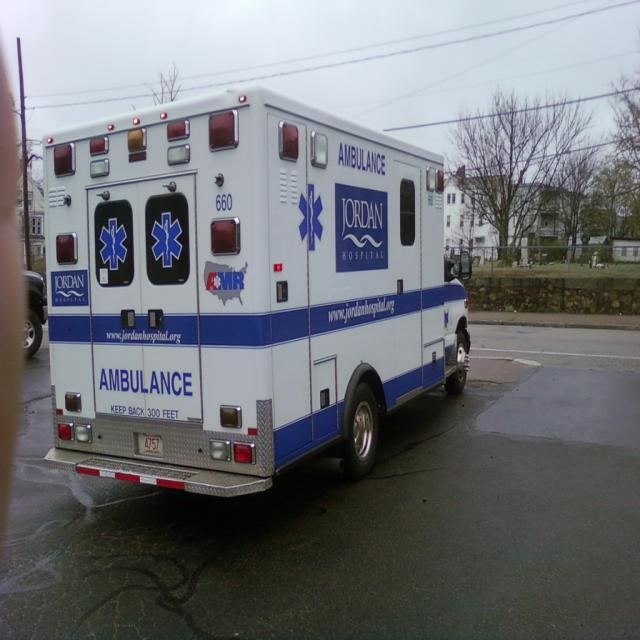Ambulance: (42, 85, 476, 497)
